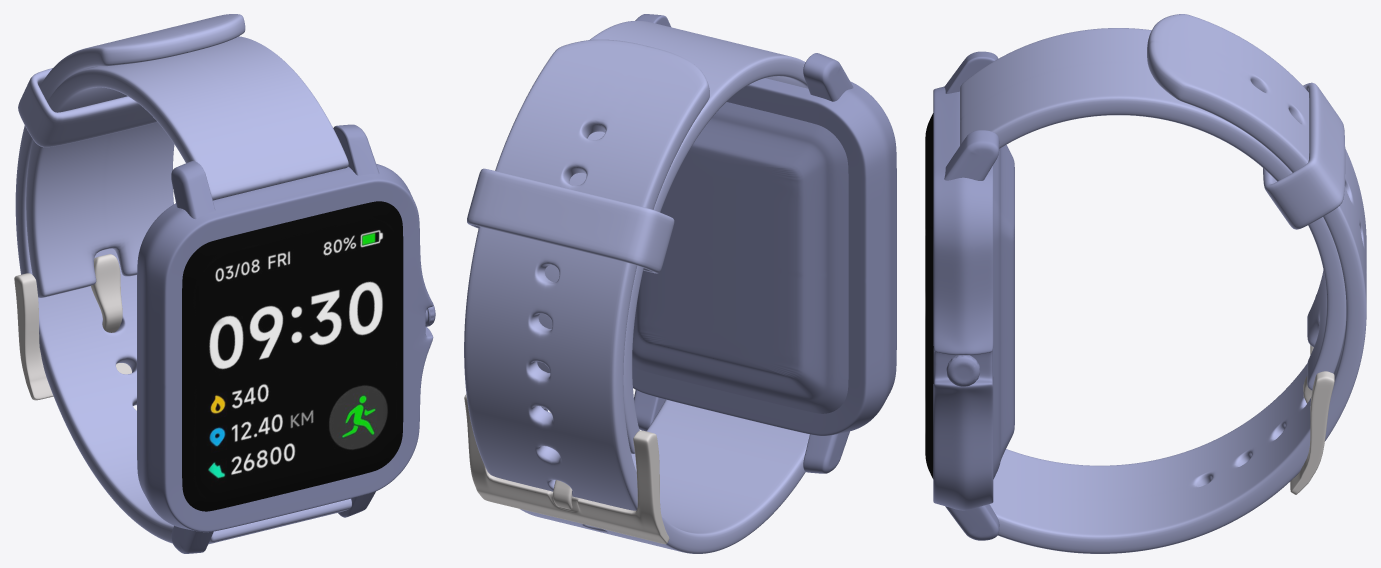
Rendered from SmartWatch.gltf.
3 views of the same model, side by side, from view 1: azimuth 30°, elevation 25°; view 2: azimuth 150°, elevation 25°; view 3: azimuth 270°, elevation 25° (orthographic). The views are drawn at different scales.
Visible parts, largest first — view 1: display, Straps, main body, Straps With Hole, Loop, Strab Holder, Buckle, Buckle Tongue; view 2: Straps With Hole, back side, main body, Loop, Straps, Buckle, Strab Holder; view 3: Straps With Hole, Straps, main body, back side, Loop, Strab Holder, display, Buckle, knob.
Boxes of the visible parts, <box> form: display: <box>182,201,403,511</box>; Straps: <box>26,36,348,297</box>; main body: <box>137,164,433,532</box>; Straps With Hole: <box>15,14,351,544</box>; Loop: <box>18,68,157,147</box>; Strab Holder: <box>171,124,379,553</box>; Buckle: <box>14,273,131,400</box>; Buckle Tongue: <box>91,254,122,332</box>; Straps With Hole: <box>464,39,809,553</box>; back side: <box>632,102,848,413</box>; main body: <box>632,78,896,435</box>; Loop: <box>467,168,674,273</box>; Straps: <box>537,20,808,453</box>; Buckle: <box>464,394,669,544</box>; Strab Holder: <box>634,14,853,473</box>; Straps With Hole: <box>989,14,1366,553</box>; Straps: <box>960,28,1346,390</box>; main body: <box>933,86,993,510</box>; back side: <box>993,144,1014,479</box>; Loop: <box>1263,82,1345,229</box>; Strab Holder: <box>944,51,999,540</box>; display: <box>925,113,933,478</box>; Buckle: <box>1290,295,1334,494</box>; knob: <box>946,355,980,386</box>.
Size of the model in its own units: 50.43 by 77.45 by 64.85.
Materials: 4 (1 with a texture image).
